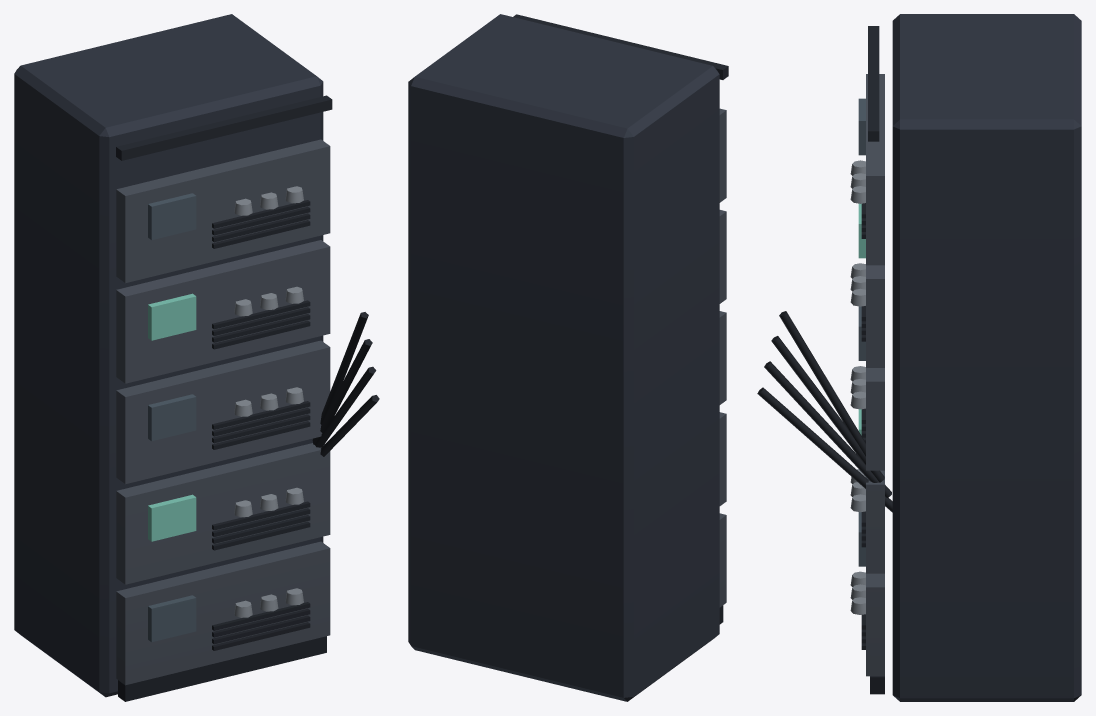
Rendered from radio_rack.glb.
The picture shows the model from 3 angles, left to right: view 1: azimuth 30°, elevation 25°; view 2: azimuth 150°, elevation 25°; view 3: azimuth 270°, elevation 25°; orthographic projection. The views are drawn at different scales.
Visible parts, largest first — view 1: radio_rack; view 2: radio_rack; view 3: radio_rack.
Part boxes in pixels (bbox=[...]): radio_rack: bbox=[14, 14, 379, 701]; radio_rack: bbox=[408, 14, 728, 701]; radio_rack: bbox=[757, 14, 1081, 701].
Bounding box in the file's own units: 0.7 × 1.7 × 0.8577.
